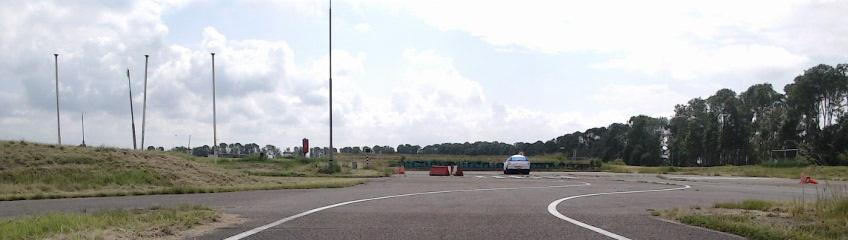Car: (504, 155, 530, 175)
